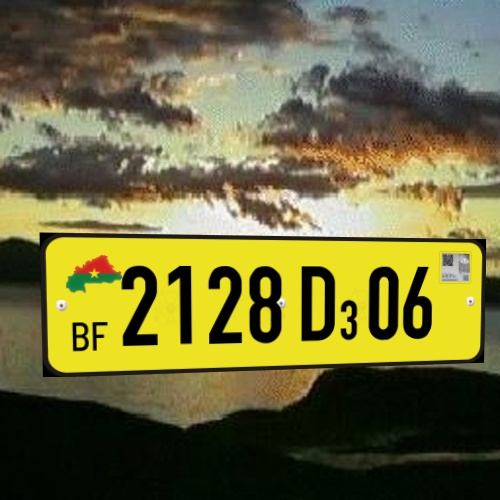plate: (27, 220, 497, 385)
